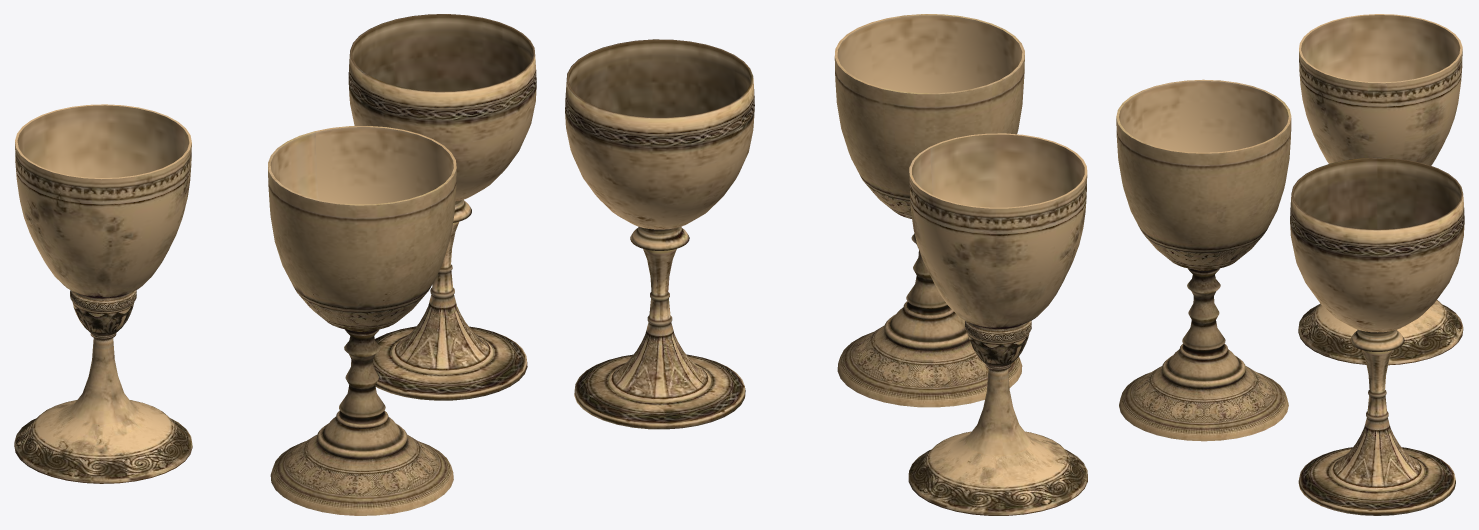
3 views of the same model, side by side, from view 1: azimuth 30°, elevation 25°; view 2: azimuth 150°, elevation 25°; view 3: azimuth 270°, elevation 25° (orthographic). The views are drawn at different scales.
Parts seen in each view (by area): view 1: brass_goblet_01, brass_goblet_02, brass_goblet_03; view 2: brass_goblet_02, brass_goblet_03, brass_goblet_01; view 3: brass_goblet_01, brass_goblet_03, brass_goblet_02.
Boxes of the visible parts, <box> form: brass_goblet_01: <box>268,126,456,515</box>; brass_goblet_02: <box>14,104,192,483</box>; brass_goblet_03: <box>348,14,536,400</box>; brass_goblet_02: <box>908,133,1087,515</box>; brass_goblet_03: <box>565,39,754,429</box>; brass_goblet_01: <box>834,14,1024,407</box>; brass_goblet_01: <box>1116,79,1291,441</box>; brass_goblet_03: <box>1290,157,1464,515</box>; brass_goblet_02: <box>1298,14,1463,365</box>.
Bounding box in the file's own units: 0.4534 × 0.2734 × 0.2976.
3 materials, 3 textured.
